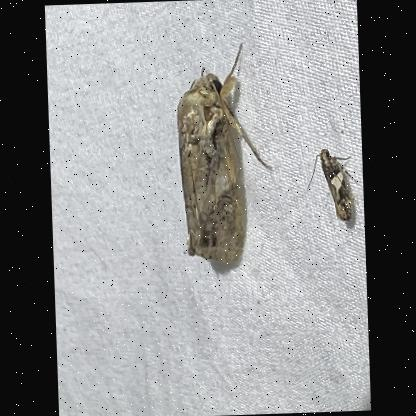Fall Armyworm Moth: (171, 40, 279, 270)
